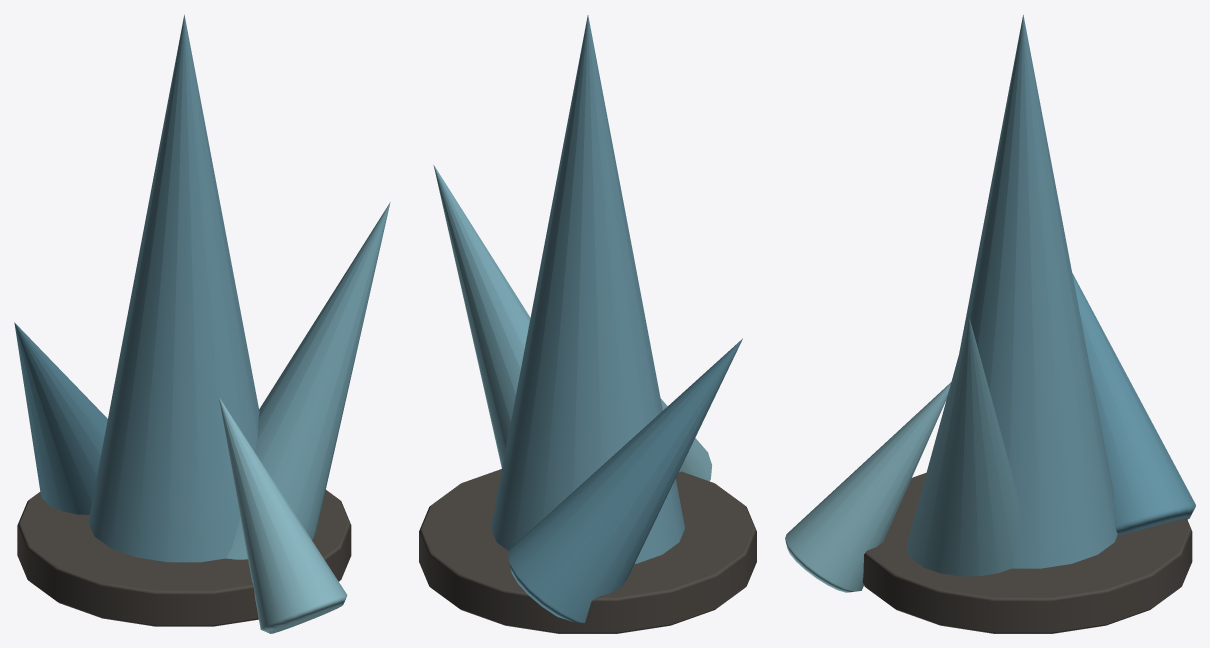
File: crystal.127d07cc.glb
The picture shows the model from 3 angles, left to right: view 1: azimuth 30°, elevation 25°; view 2: azimuth 150°, elevation 25°; view 3: azimuth 270°, elevation 25°; orthographic projection.
Parts seen in each view (by area): view 1: body; view 2: body; view 3: body.
Part boxes in pixels (<box>): body: <box>14,14,390,633</box>; body: <box>419,15,756,633</box>; body: <box>785,15,1195,633</box>.
Bounding box in the file's own units: 0.5903 × 0.9261 × 0.608.
